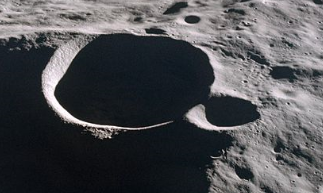crater: (160, 80, 302, 165)
